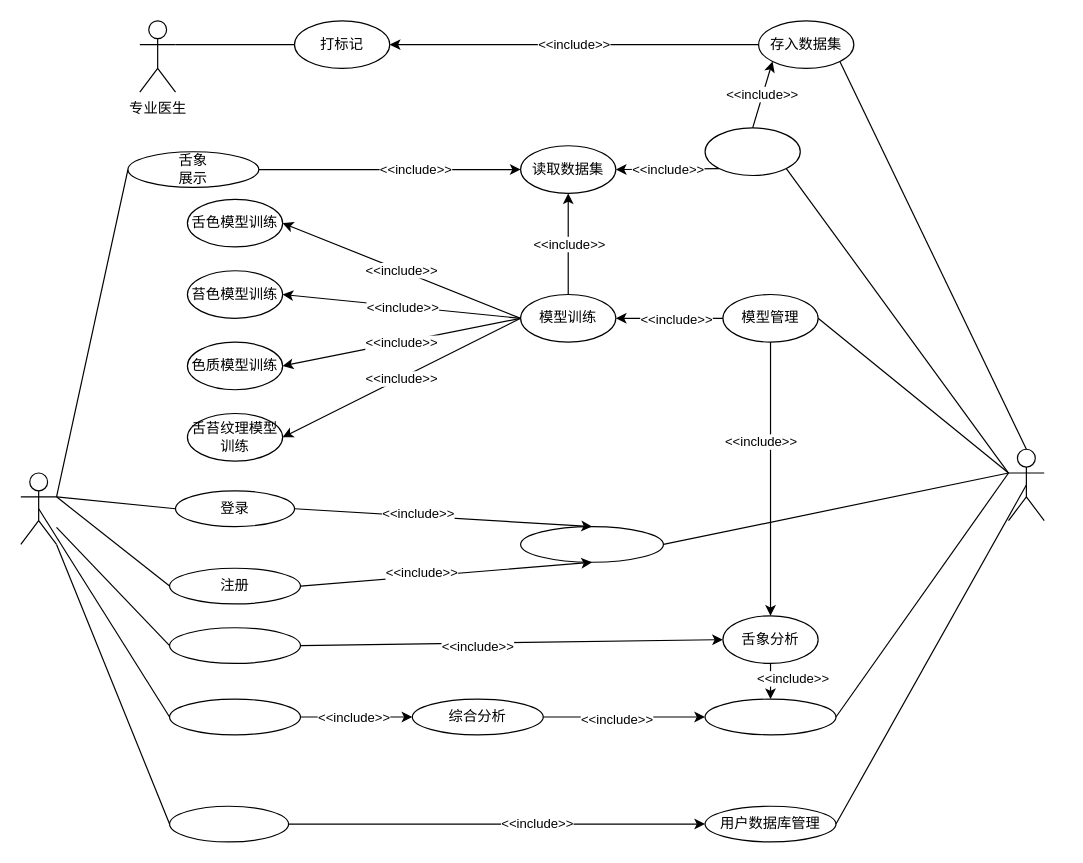
This 1083x863 diagram has some shape labels left out. Each missing label, with the centre of its shape:
"信息管理" goes at (228,823).
"数据集管理" goes at (752,151).
"查看综合报告" goes at (234,716).
"用户" goes at (38,508).
"系统管理员" goes at (1025,484).
"舌象数据库管理" goes at (770,716).
"舌象诊断" goes at (234,645).
"角色管理" goes at (591,543).
